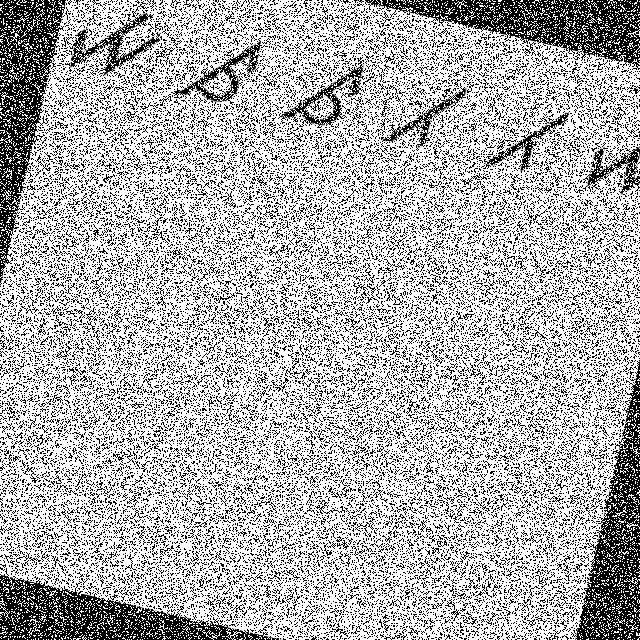ba: (368, 57, 476, 172), (481, 87, 579, 189)
ca: (167, 20, 268, 130), (278, 34, 372, 138)
ma: (58, 0, 172, 90), (569, 103, 639, 216)
